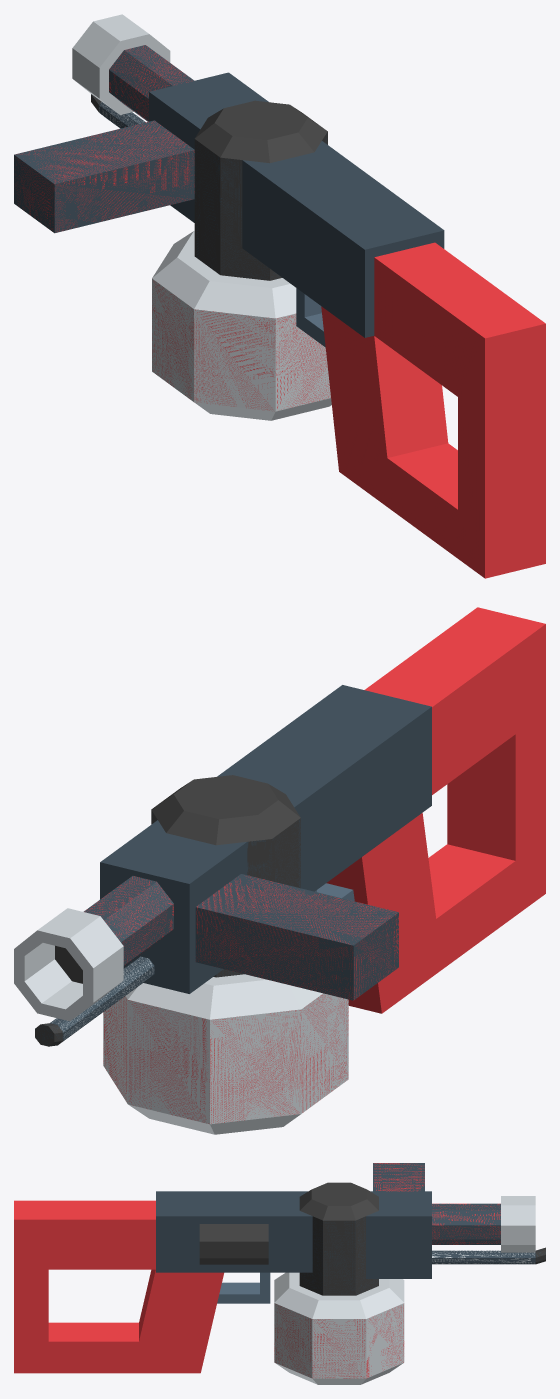
The model's file is flamethrower_long.dae.
3 renders of one model, top to bottom at view 1: azimuth 30°, elevation 25°; view 2: azimuth 150°, elevation 25°; view 3: azimuth 270°, elevation 25°, orthographic. The views are drawn at different scales.
Visible parts, largest first — view 1: Group (×2); view 2: Group (×2); view 3: Group (×2).
Boxes of the visible parts, box(x1,y1,x2,y2) form: Group (×2): box(14, 14, 545, 578); Group (×2): box(14, 607, 545, 1134); Group (×2): box(14, 1163, 545, 1384).
Size of the model in its own units: 0.2194 by 0.2067 by 0.5887.
